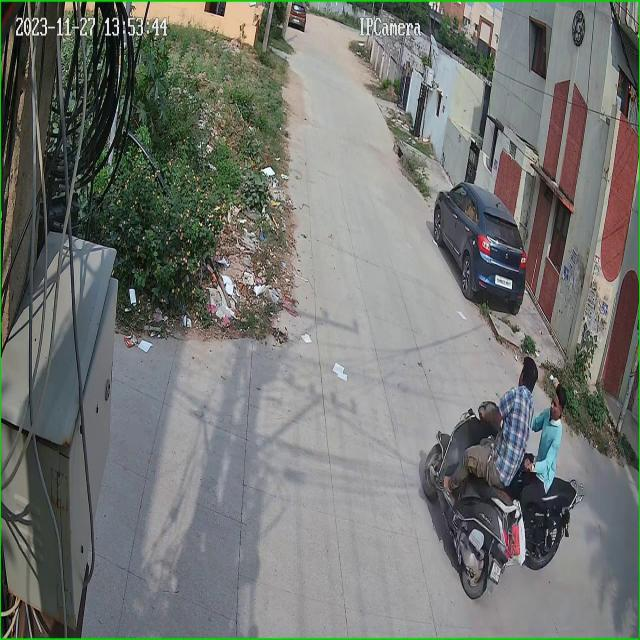accident: (414, 353, 584, 619)
